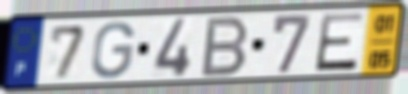4: (152, 16, 194, 80)
7: (271, 13, 314, 75), (49, 23, 88, 81)
B: (197, 14, 251, 80)
E: (312, 10, 367, 74)
G: (89, 19, 137, 81)
